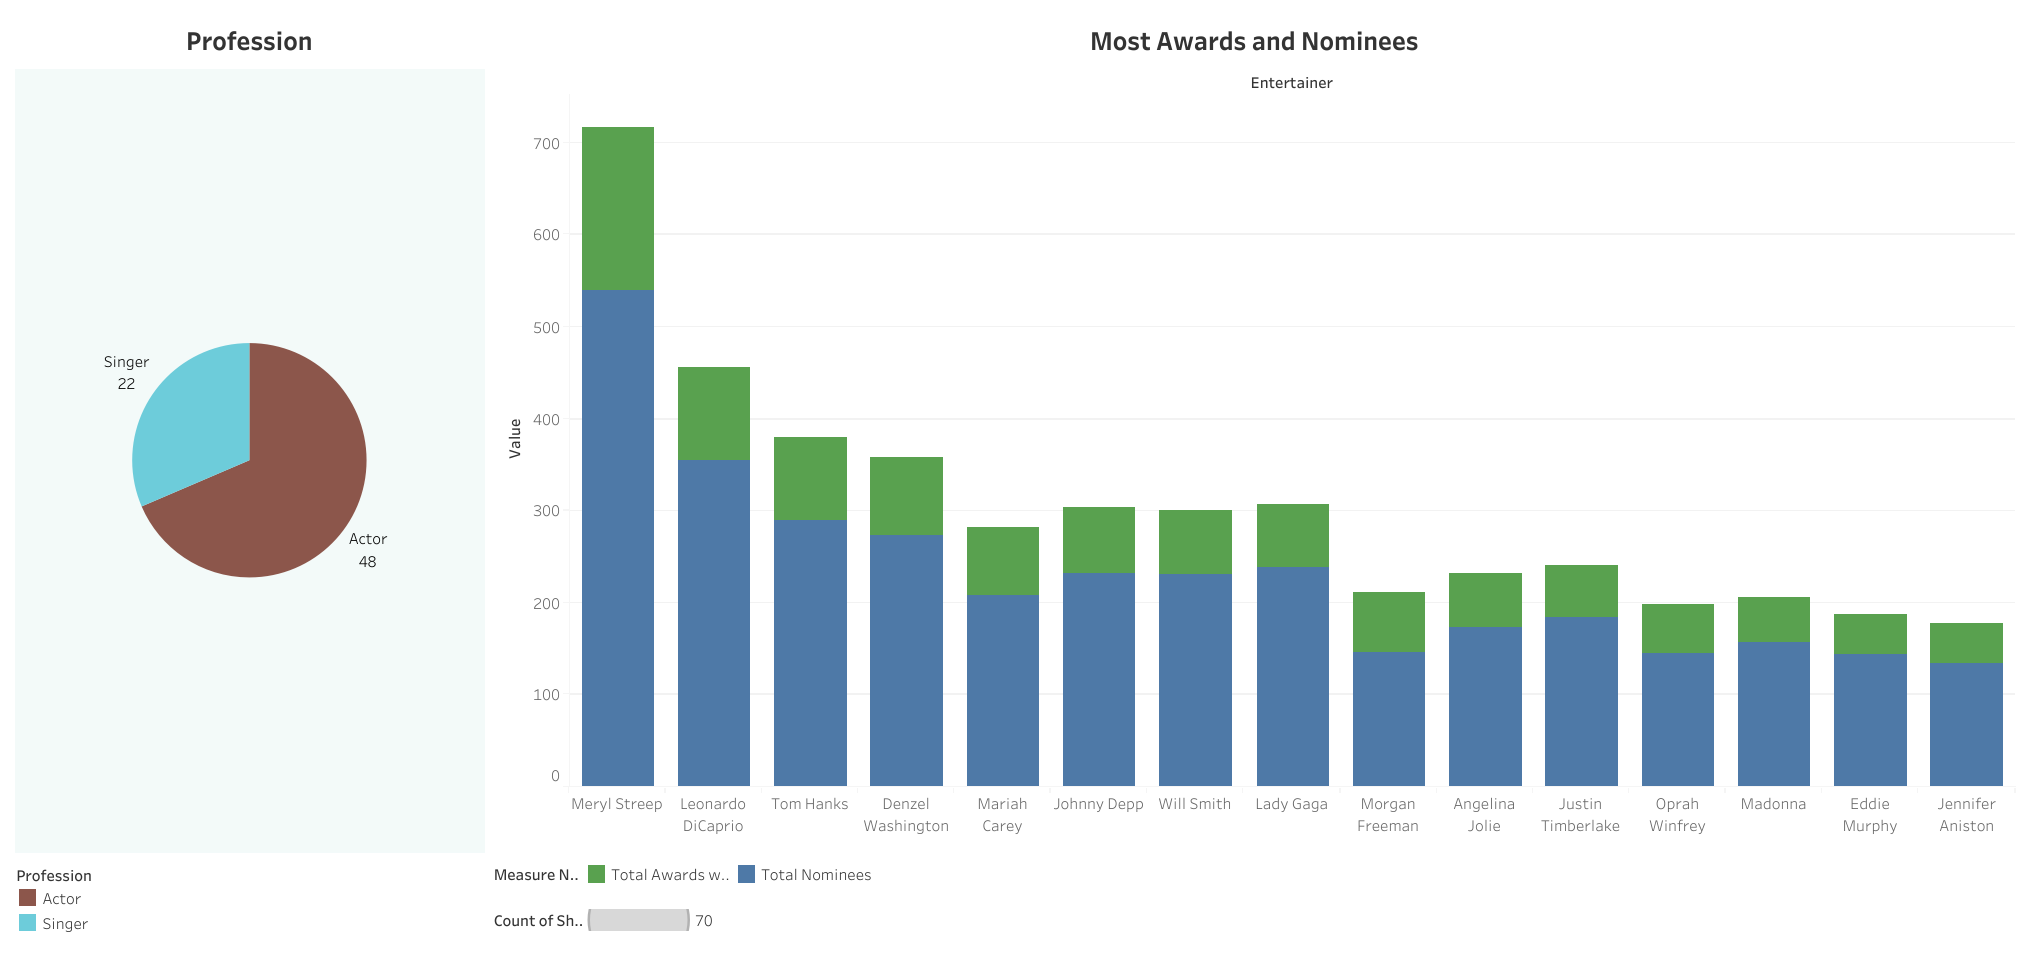

The dashboard page shown, as its layout file describes it:
{"tool":"tableau","page":{"name":"Dashboard 1","canvas":[1624,768],"ordinal":0},"visuals":[{"type":"worksheet","title":"Profession","mark":"Pie","box":[8,8,383,677]},{"type":"worksheet","title":"Most Awards and Nominees","mark":"Automatic","cols":["Entertainer"],"box":[391,8,1225,677]},{"type":"legend","title":"Profession","param":"[federated.1c0q6ed10wwgzy16u1l2m0x3vn1v].[none:Profession:nk]","box":[8,685,383,75]},{"type":"legend","title":"Most Awards and Nominees","param":"[federated.1c0q6ed10wwgzy16u1l2m0x3vn1v].[:Measure Names]","box":[391,685,1225,37.5]},{"type":"legend","title":"Profession","param":"[federated.1c0q6ed10wwgzy16u1l2m0x3vn1v].[__tableau_internal_object_id__].[cnt:S","box":[391,722.5,1225,37.5]}]}

Visuals, with their boxes in screenshot pixels (x1, y1, x2, y2), scaled from the page's 1624x768 canvas onto the 2029x959 screenshot:
"Profession" worksheet (Pie marks): 10, 10, 489, 855
"Most Awards and Nominees" worksheet: 489, 10, 2019, 855
"Profession" legend: 10, 855, 489, 949
"Most Awards and Nominees" legend: 489, 855, 2019, 902
"Profession" legend: 489, 902, 2019, 949
